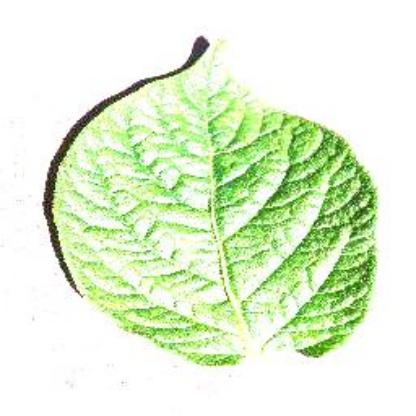Healthy-plant: (44, 35, 388, 385)
